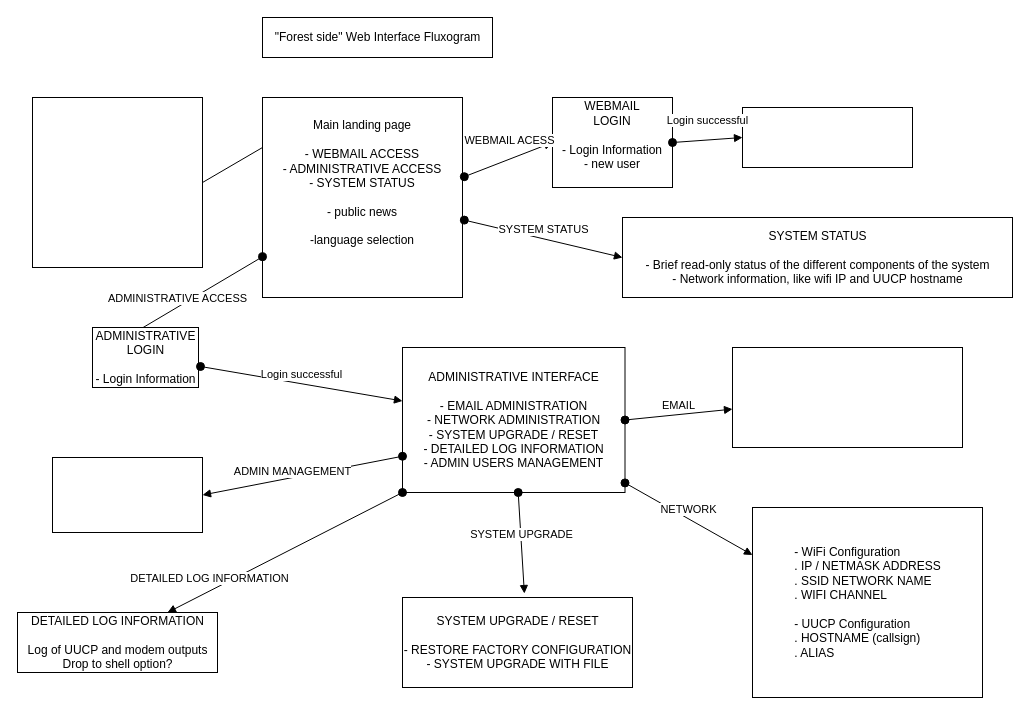
Image size: 1030x715. Some labels were removed from this diagram. Each missing label, with the centre of its shape:
"ADMIN MANAGEMENT - Create Admin User - Delete Admin User - List AdminUser" goes at point (127, 494).
"EMAIL ADMINISTRATION - Create User - Delete User - List User - Edit User" goes at point (847, 397).
"PUBLIC NEWS -filter station - read messages - reply messages -transmit messages" goes at point (117, 182).
"WEBMAIL INTERFACE most likely: https://github.com/jasonmunro/cypht" goes at point (827, 137).
